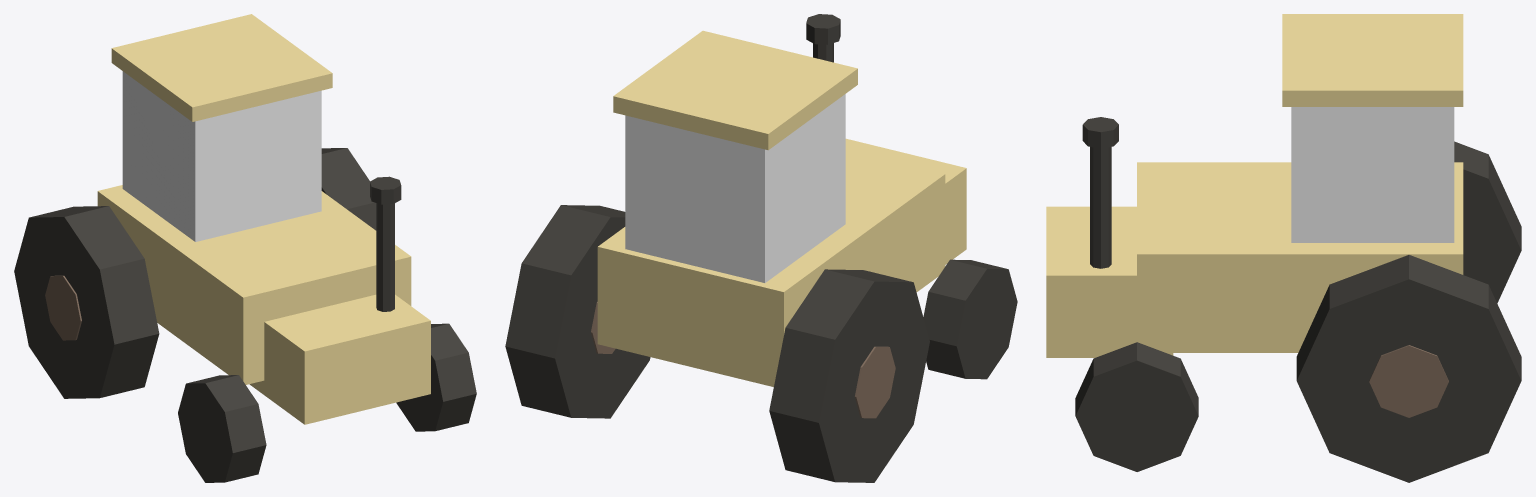
The model's file is tractor.glb.
The picture shows the model from 3 angles, left to right: view 1: azimuth 30°, elevation 25°; view 2: azimuth 150°, elevation 25°; view 3: azimuth 270°, elevation 25°; orthographic projection. The views are drawn at different scales.
Visible parts, largest first — view 1: tractor; view 2: tractor; view 3: tractor.
Part boxes in pixels (bbox=[...]): tractor: bbox=[14, 14, 476, 482]; tractor: bbox=[505, 14, 1017, 482]; tractor: bbox=[1046, 14, 1521, 482].
Bounding box in the file's own units: 2.04 × 2.15 × 2.62.
